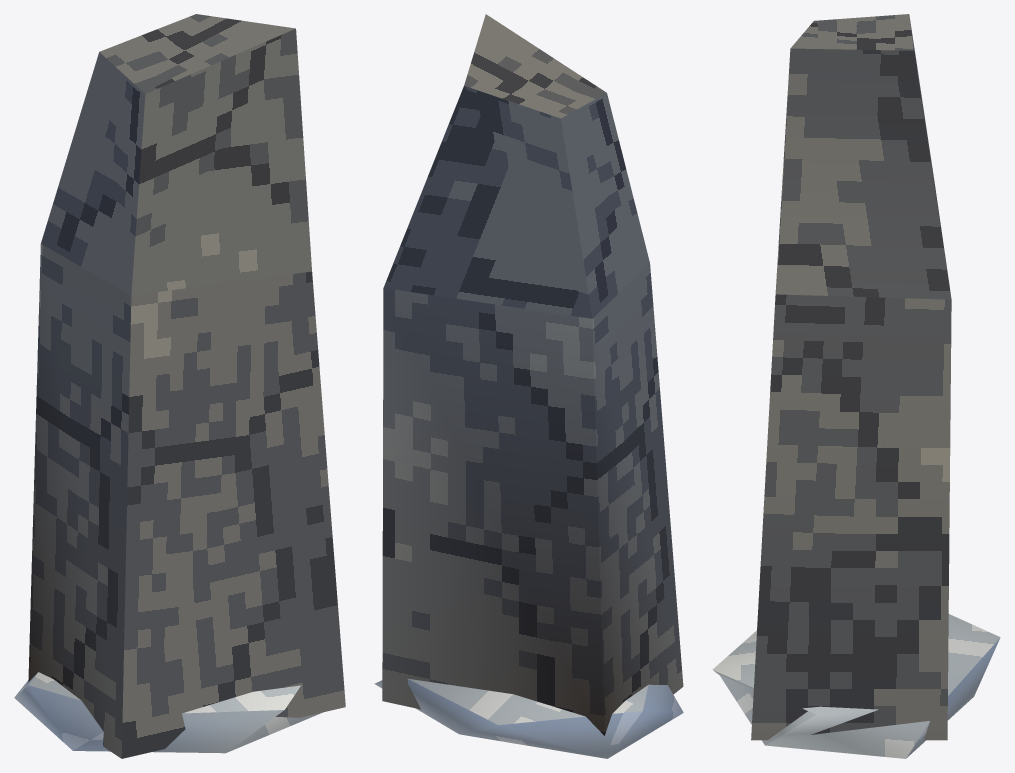
Rendered from mnat.rock__standing.glb.
3 renders of one model, left to right at view 1: azimuth 30°, elevation 25°; view 2: azimuth 150°, elevation 25°; view 3: azimuth 270°, elevation 25°, orthographic. The views are drawn at different scales.
Visible parts, largest first — view 1: kit_rock, kit_moss; view 2: kit_rock, kit_moss; view 3: kit_rock, kit_moss.
Part boxes in pixels (x1=…): kit_rock: x1=28, y1=14, x2=345, y2=758; kit_moss: x1=14, y1=672, x2=322, y2=753; kit_rock: x1=382, y1=14, x2=683, y2=735; kit_moss: x1=374, y1=678, x2=683, y2=758; kit_rock: x1=751, y1=14, x2=951, y2=740; kit_moss: x1=712, y1=614, x2=1000, y2=758.
Bounding box in the file's own units: 1.04 × 2.49 × 0.9323.
Materials: 2 (2 with a texture image).
